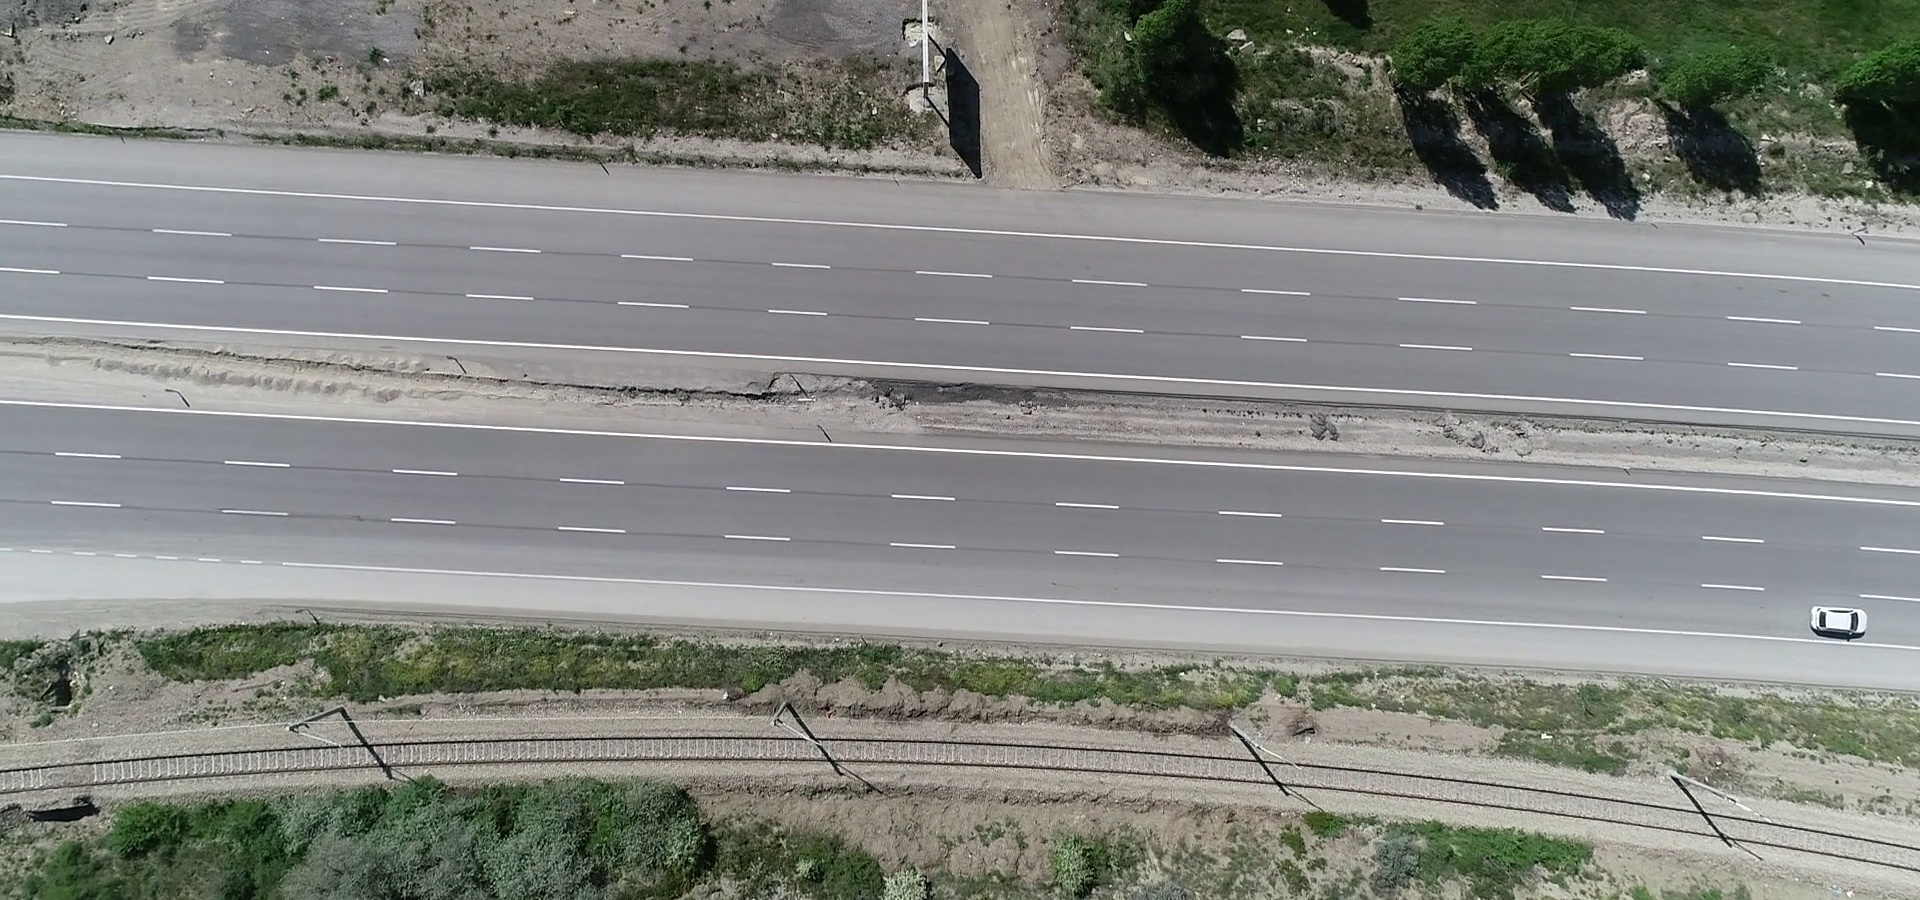araba: (1805, 601, 1876, 649)
